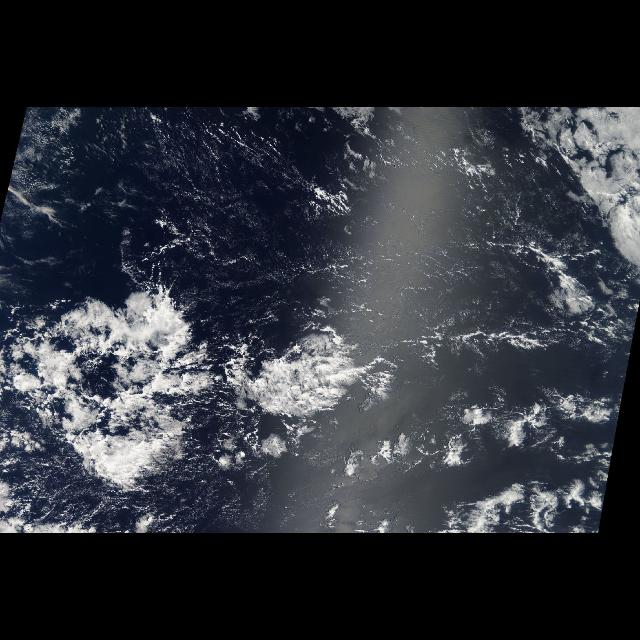Fish: (1, 288, 393, 518)
Flower: (340, 406, 616, 530), (517, 109, 639, 267)
Sugar: (27, 108, 500, 280)
